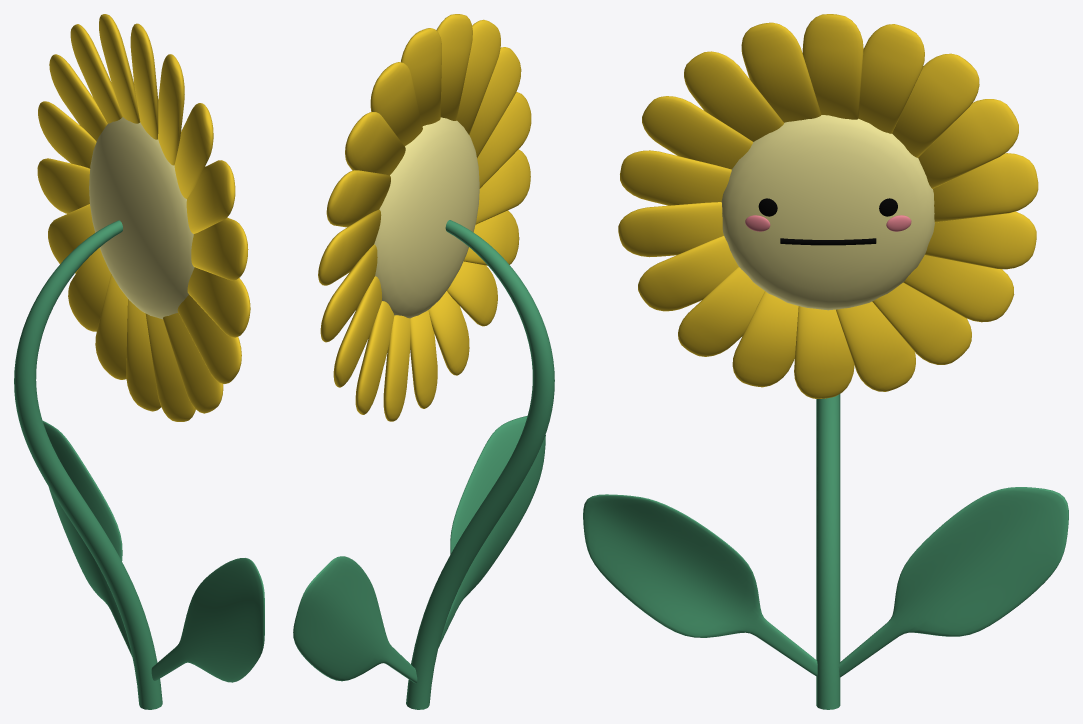
File: neutral.glb
The picture shows the model from 3 angles, left to right: view 1: azimuth 30°, elevation 25°; view 2: azimuth 150°, elevation 25°; view 3: azimuth 270°, elevation 25°; orthographic projection.
Visible parts, largest first — view 1: Petals, Face, Stem, Left Leaf, Right Leaf; view 2: Petals, Face, Stem, Right Leaf, Left Leaf; view 3: Petals, Face, Right Leaf, Left Leaf, Stem.
Part boxes in pixels (x1,y1,x2,y2): Petals: (37,14,250,421); Face: (89,117,194,319); Stem: (14,220,162,709); Left Leaf: (151,558,264,682); Right Leaf: (43,421,132,656); Petals: (318,14,531,421); Face: (374,117,479,318); Stem: (406,220,554,709); Right Leaf: (293,556,417,683); Left Leaf: (438,415,545,647); Petals: (618,14,1038,398); Face: (721,115,934,310); Right Leaf: (838,487,1068,677); Left Leaf: (583,494,817,676); Stem: (816,394,840,709).
Bounding box in the file's own units: 1.8 × 6.95 × 4.45.
